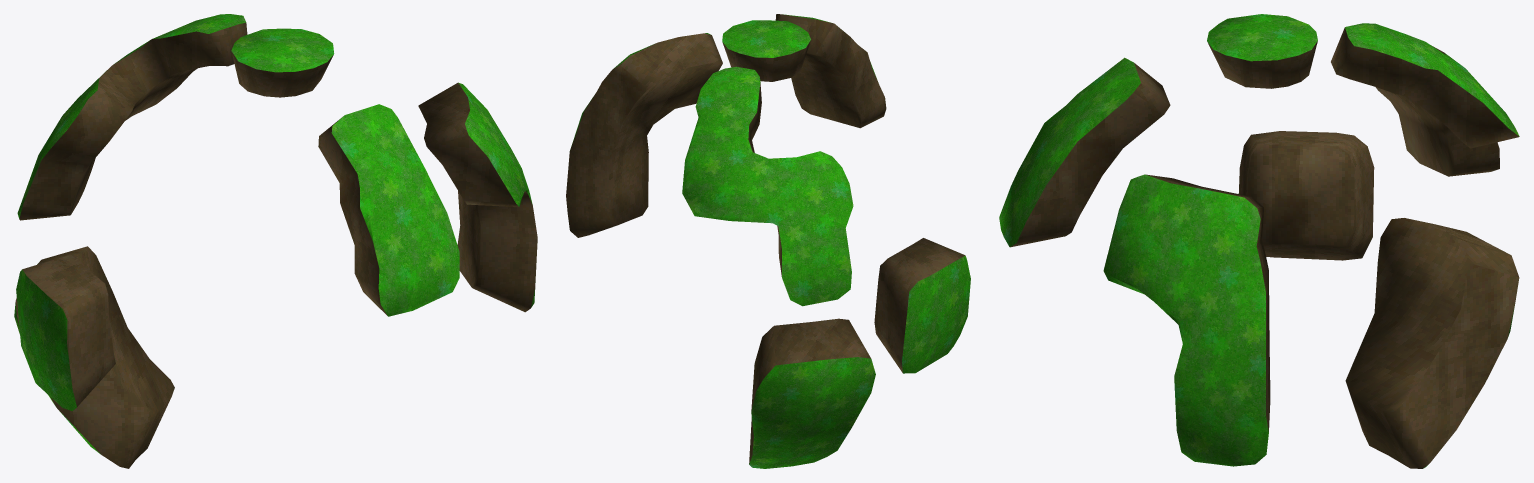
File: HikeGardenSpherePlanetLow.fbx
The picture shows the model from 3 angles, left to right: view 1: azimuth 30°, elevation 25°; view 2: azimuth 150°, elevation 25°; view 3: azimuth 270°, elevation 25°; orthographic projection. The views are drawn at different scales.
Visible parts, largest first — view 1: Plane.001, Plane.000; view 2: Plane.000, Plane.001; view 3: Plane.001, Plane.000.
Part boxes in pixels (x1,y1,x2,y2): Plane.001: (15,22,537,468); Plane.000: (14,14,535,454); Plane.000: (571,14,970,468); Plane.001: (566,14,965,463); Plane.001: (1010,27,1519,468); Plane.000: (999,14,1519,468).
Size of the model in its own units: 363475 by 329982 by 329398.
2 materials, 2 textured.
